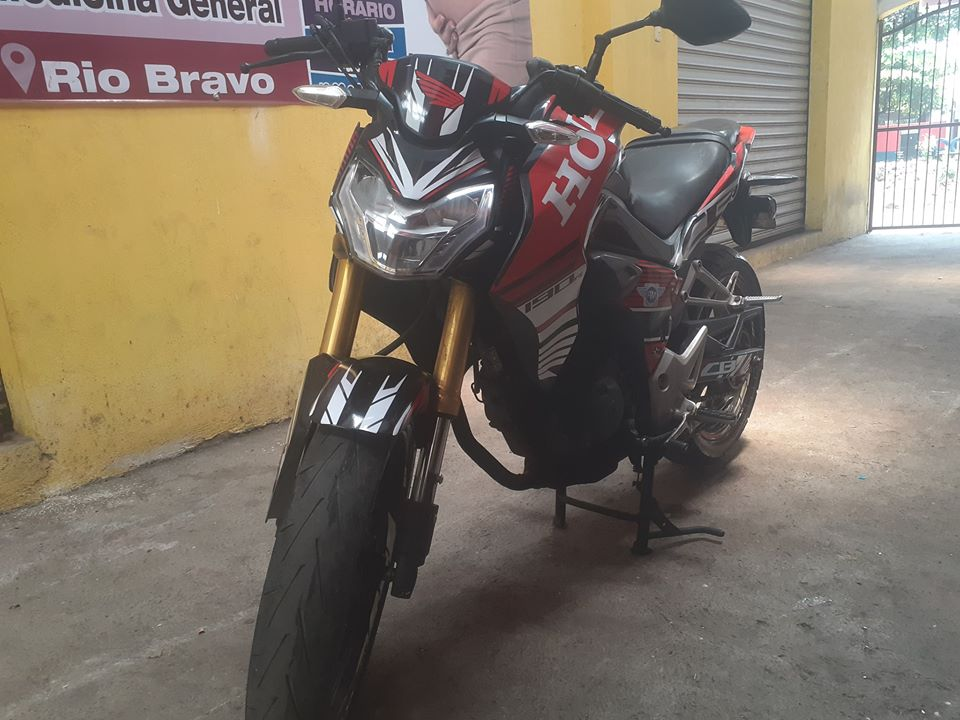moto: (206, 12, 786, 720)
